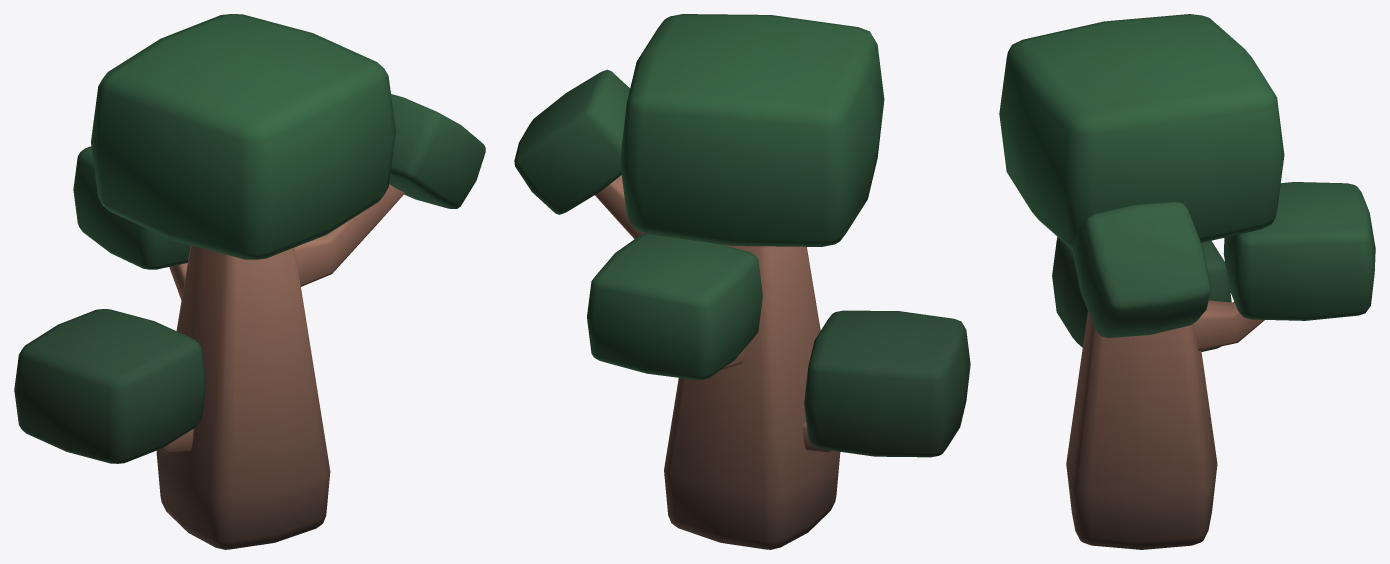
The model's file is lowpolyTree03.fbx.
The picture shows the model from 3 angles, left to right: view 1: azimuth 30°, elevation 25°; view 2: azimuth 150°, elevation 25°; view 3: azimuth 270°, elevation 25°; orthographic projection.
Parts seen in each view (by area): view 1: Cube.006; view 2: Cube.006; view 3: Cube.006.
Boxes of the visible parts, x1,y1,x2,y2 form: Cube.006: [14, 14, 485, 549]; Cube.006: [514, 14, 970, 549]; Cube.006: [999, 14, 1375, 549].
Size of the model in its own units: 792 by 814 by 580.
1 material, 1 textured.
